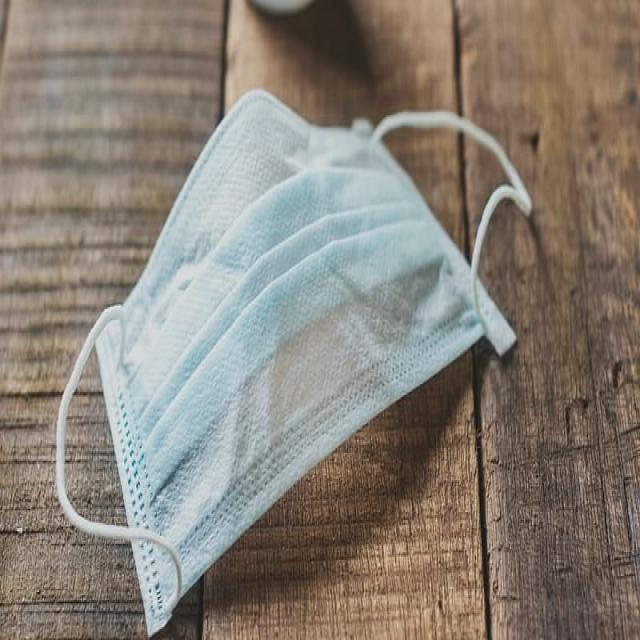non-organic waste: (47, 102, 530, 632)
